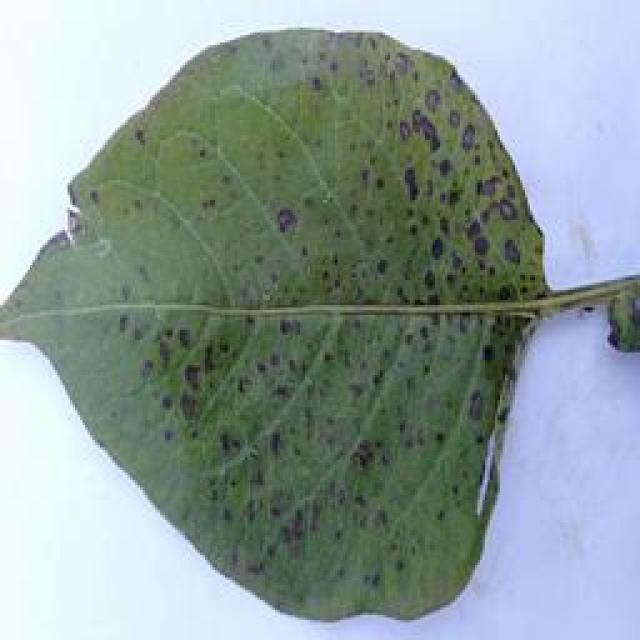Potato_Early_Blight: (1, 3, 630, 629)
